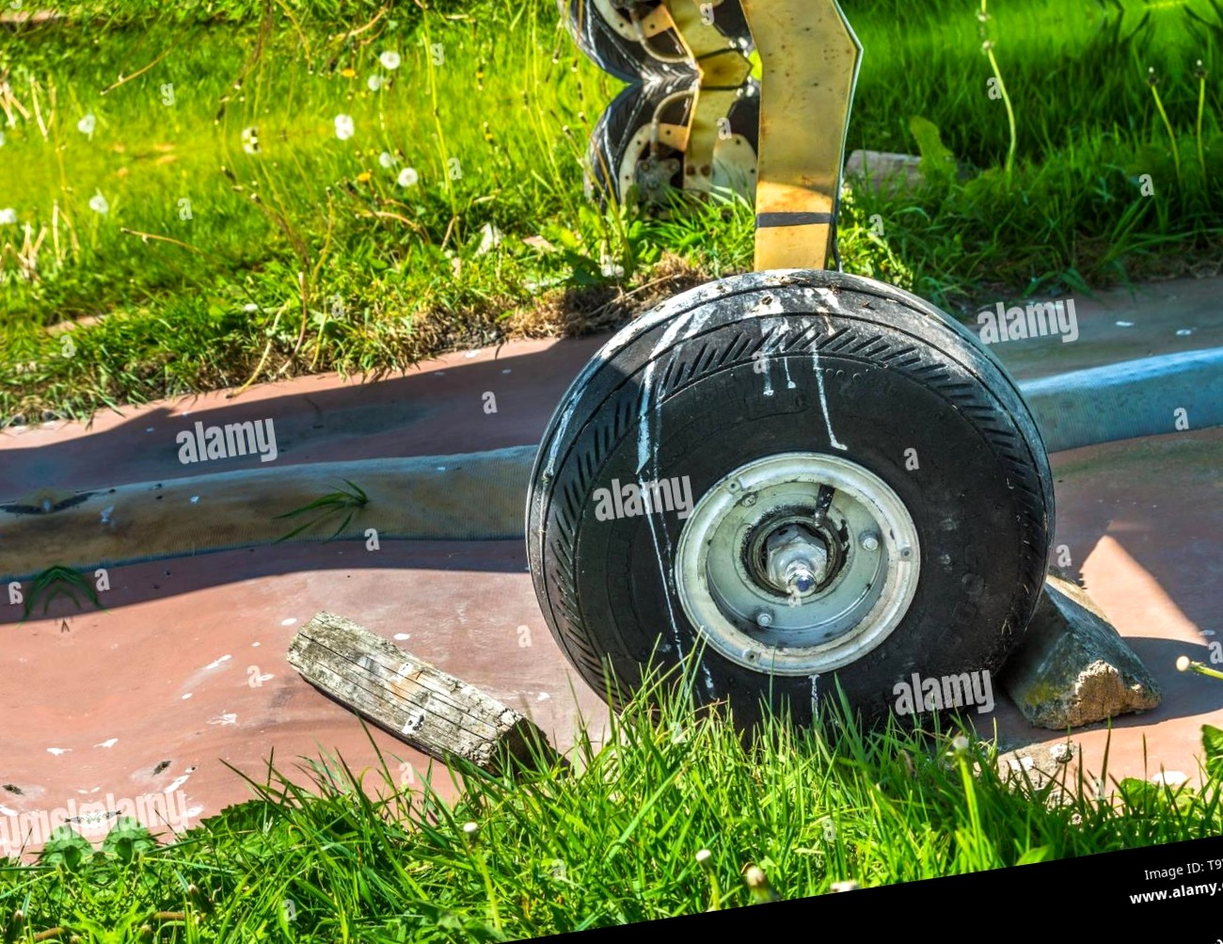chock: (276, 564, 557, 814), (983, 539, 1167, 742)
wheel: (490, 234, 1085, 781)
